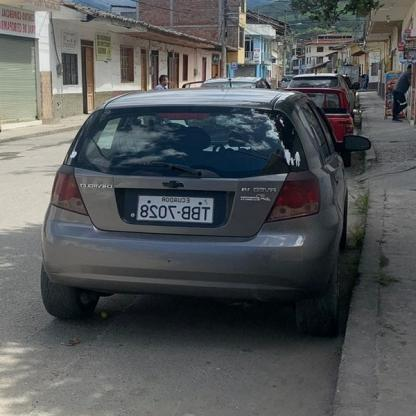Placa: (132, 193, 223, 227)
